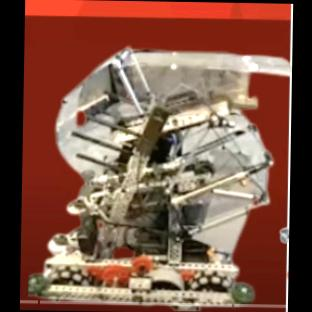Robot: (29, 46, 291, 310)
